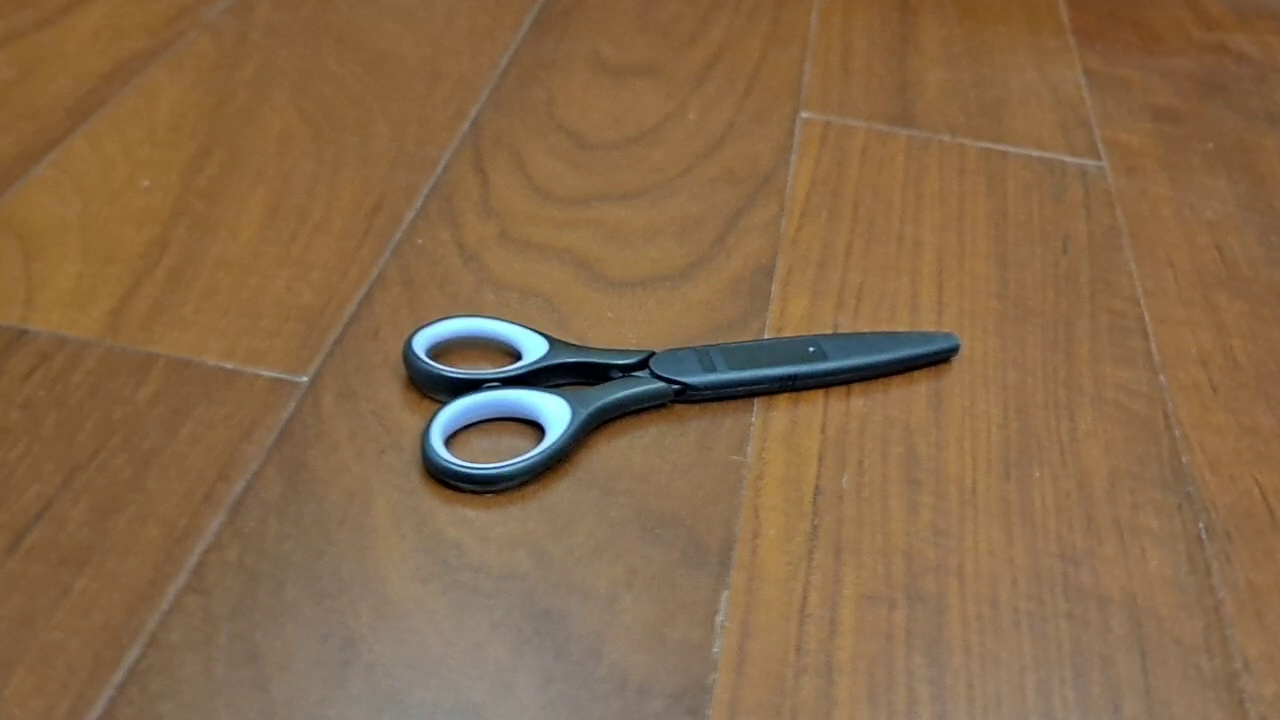scissors: (402, 314, 961, 495)
